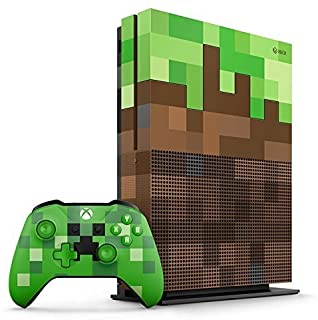gamingconsole: (9, 200, 164, 309)
